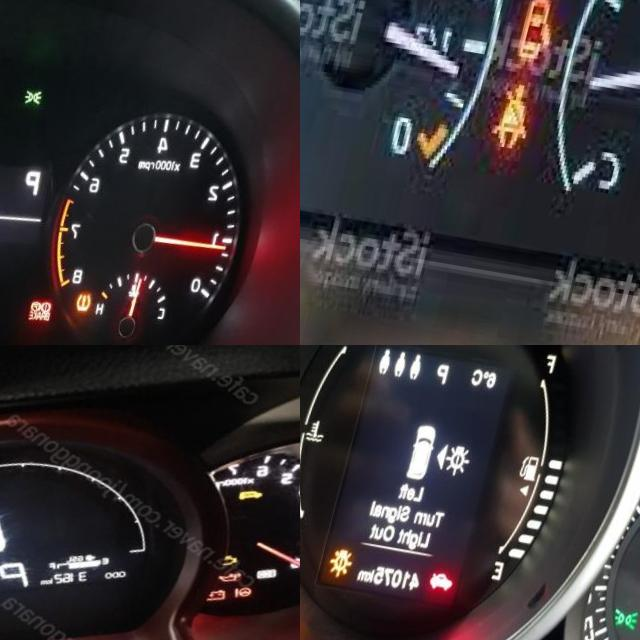Seat Belt: (502, 70, 559, 138)
SideLamp: (32, 81, 52, 99), (634, 588, 640, 611)
